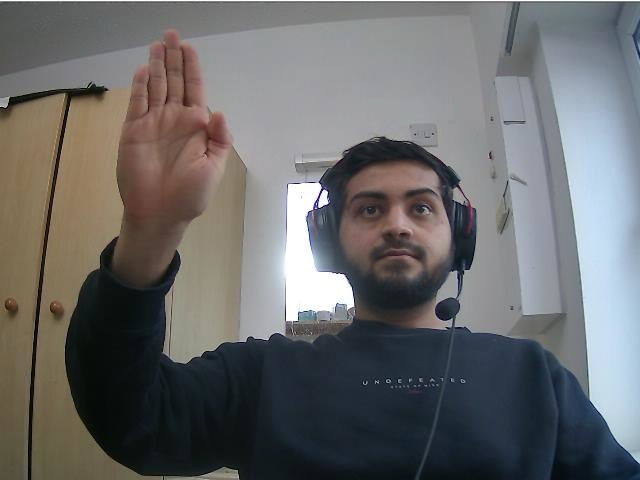up: (115, 29, 231, 218)
